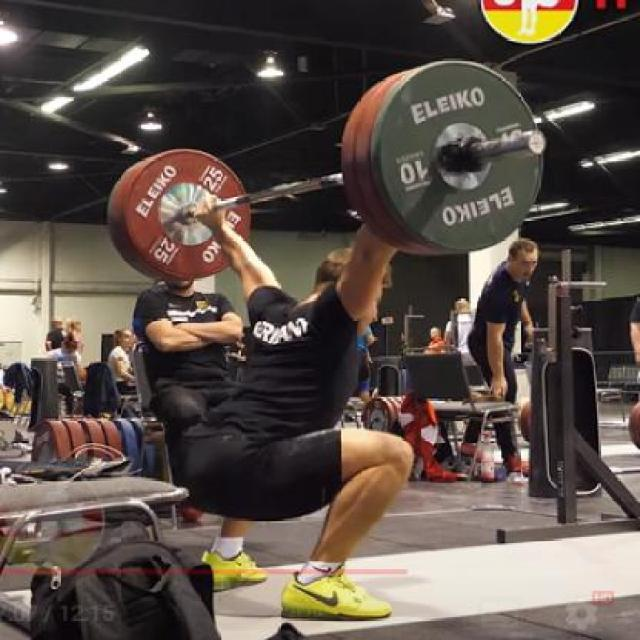Barbell: (524, 124, 547, 158)
